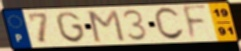3: (122, 9, 149, 42)
7: (27, 12, 51, 46)
C: (153, 6, 187, 42)
F: (181, 4, 210, 43)
G: (55, 11, 88, 44)
M: (87, 9, 127, 44)
